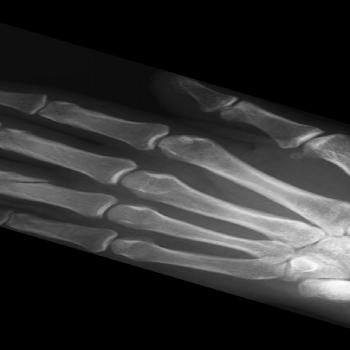Fracture: (0, 171, 64, 188)
